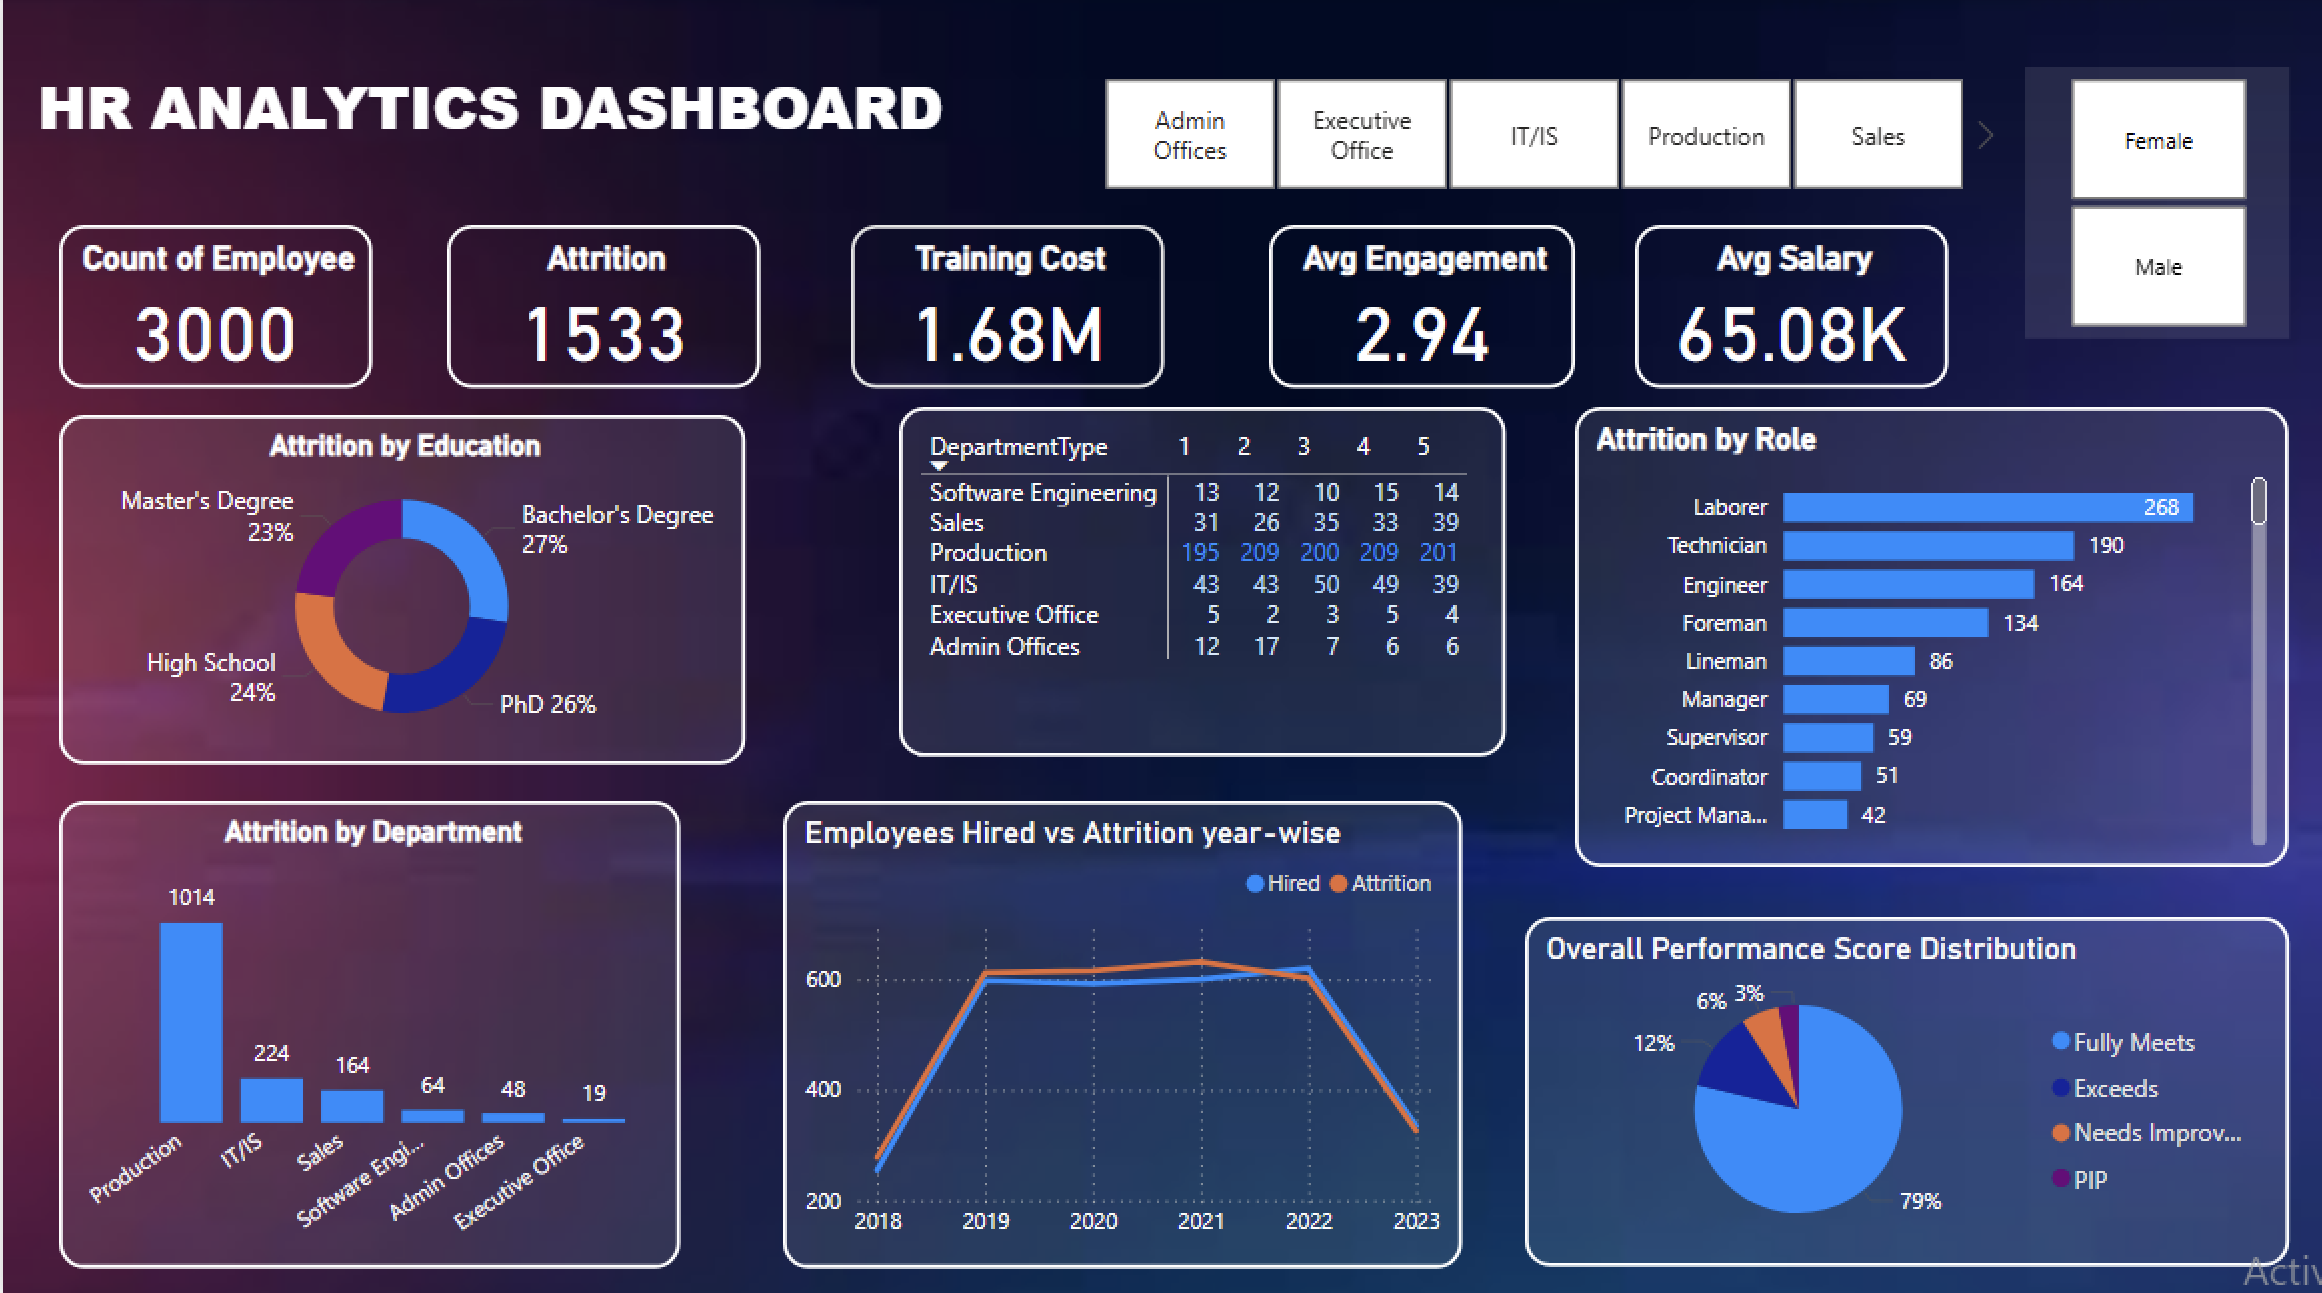

What the dashboard file says about the page in this screenshot:
{"tool":"powerbi","page":{"name":"Page 1","canvas":[1280,720],"ordinal":0},"visuals":[{"type":"card","title":"Count of Employee","fields":{"Values":["Count(employee_data.EmpID)"]},"box":[30.7,126.6,172.6,90],"z":0},{"type":"card","title":"Attrition","fields":{"Values":["CountNonNull(employee_data.ExitDate)"]},"box":[245.5,126.6,172.6,89.5],"z":1000},{"type":"card","title":"Training Cost","fields":{"Values":["Sum(training_and_development_data.Training Cost)"]},"box":[468,126.6,172.6,89.5],"z":2000},{"type":"card","title":"Avg Engagement","fields":{"Values":["Avg(employee_engagement_survey_data.Engagement Score)"]},"box":[699.5,126.6,168.8,89.5],"z":3000},{"type":"card","title":"Avg Salary","fields":{"Values":["Avg(recruitment_data.Desired Salary)"]},"box":[901.5,126.6,172.6,89.5],"z":4000},{"type":"donutChart","title":"Attrition by Education","fields":{"Category":["recruitment_data.Education Level"],"Y":["CountNonNull(employee_data.ExitDate)"]},"box":[30.7,231.4,378.5,193.1],"z":5000},{"type":"columnChart","title":"Attrition by Department","fields":{"Category":["employee_data.DepartmentType"],"Y":["CountNonNull(employee_data.ExitDate)"]},"box":[31.2,444.9,343.4,257.6],"z":6000},{"type":"pivotTable","fields":{"Values":["CountNonNull(employee_data.ExitDate)"],"Columns":["employee_engagement_survey_data.Satisfaction Score"],"Rows":["employee_data.DepartmentType"]},"box":[494.9,227.6,335,193.1],"z":7000},{"type":"lineChart","title":"Employees Hired vs Attrition year-wise","fields":{"Category":["employee_data.StartDate.Variation.Date Hierarchy.Year"],"Y":["CountNonNull(employee_data.EmpID)"],"Y2":["CountNonNull(employee_data.ExitDate)"]},"box":[430.8,444.9,374.6,257.6],"z":8000},{"type":"barChart","title":"Attrition by Role","fields":{"Category":["employee_data.JobFunctionDescription"],"Y":["CountNonNull(employee_data.ExitDate)"]},"box":[868.3,227.6,393.8,254.5],"z":9000},{"type":"pieChart","title":"Overall Performance Score Distribution","fields":{"Y":["CountNonNull(employee_data.EmpID)"],"Category":["employee_data.Performance Score"]},"box":[840.1,508.9,422,193.1],"z":10000},{"type":"slicer","fields":{"Values":["employee_data.GenderCode"]},"box":[1116.3,39.6,145.8,149.6],"z":11000},{"type":"slicer","fields":{"Values":["employee_data.DepartmentType"]},"box":[583.1,39.6,523,74.2],"z":12000},{"type":"textbox","box":[14.1,34.5,525.6,83.1],"z":13000}]}

Visuals, with their boxes in screenshot pixels (x1, y1, x2, y2), scaled from the page's 1280x720 canvas onto the 2322x1293 screenshot:
"Count of Employee" card: 56, 227, 369, 389
"Attrition" card: 445, 227, 758, 388
"Training Cost" card: 849, 227, 1162, 388
"Avg Engagement" card: 1269, 227, 1575, 388
"Avg Salary" card: 1635, 227, 1948, 388
"Attrition by Education" donutChart: 56, 416, 742, 762
"Attrition by Department" columnChart: 57, 799, 680, 1262
pivotTable - CountNonNull(employee_data.ExitDate) x employee_engagement_survey_data.Satisfaction Score: 898, 409, 1505, 756
"Employees Hired vs Attrition year-wise" lineChart: 781, 799, 1461, 1262
"Attrition by Role" barChart: 1575, 409, 2290, 866
"Overall Performance Score Distribution" pieChart: 1524, 914, 2290, 1261
slicer - employee_data.GenderCode: 2025, 71, 2290, 340
slicer - employee_data.DepartmentType: 1058, 71, 2007, 204
textbox: 26, 62, 979, 211
